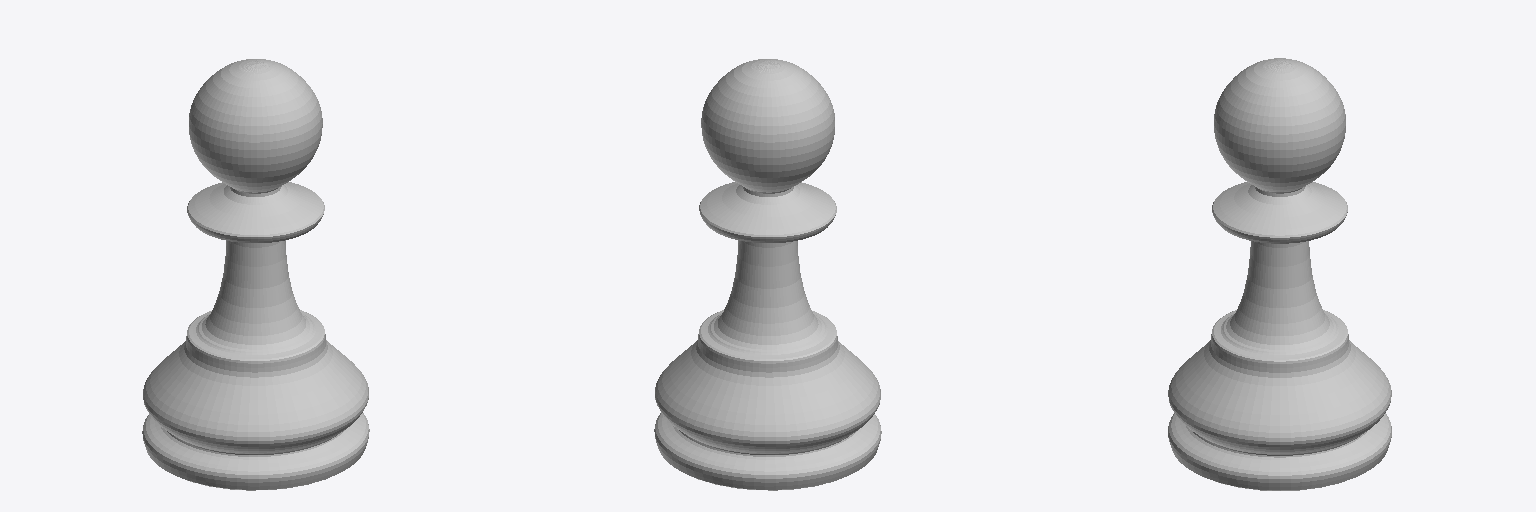
File: pawn.obj
3 renders of one model, left to right at view 1: azimuth 30°, elevation 25°; view 2: azimuth 150°, elevation 25°; view 3: azimuth 270°, elevation 25°, orthographic.
Visible parts, largest first — view 1: pawn_black_8_Cylinder.013; view 2: pawn_black_8_Cylinder.013; view 3: pawn_black_8_Cylinder.013.
Boxes of the visible parts, box(x1,y1,x2,y2) form: pawn_black_8_Cylinder.013: box(142, 59, 369, 490); pawn_black_8_Cylinder.013: box(654, 59, 881, 490); pawn_black_8_Cylinder.013: box(1168, 58, 1391, 490).
Bounding box in the file's own units: 0.9866 × 1.83 × 0.9699.